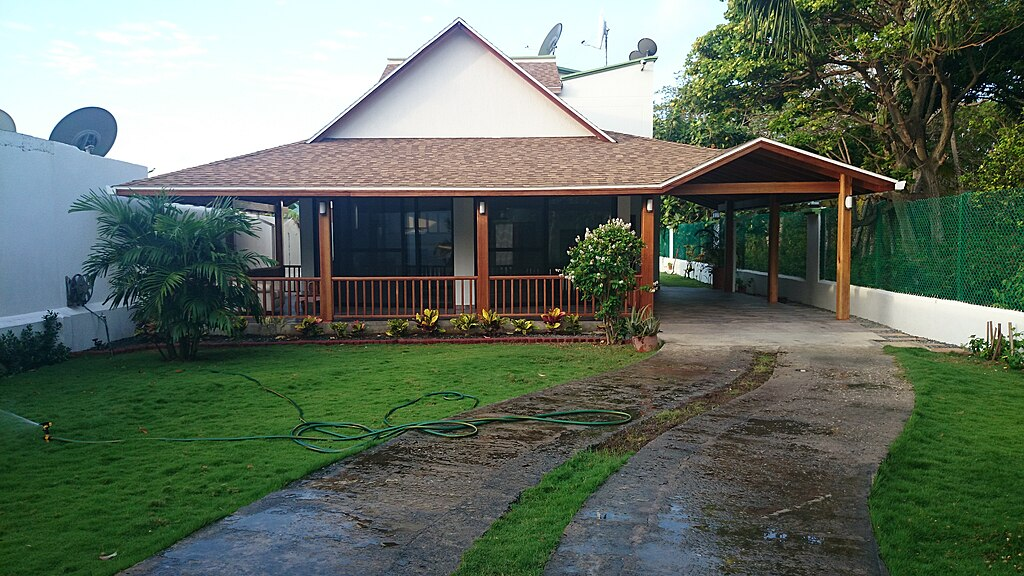House: (119, 22, 868, 333)
